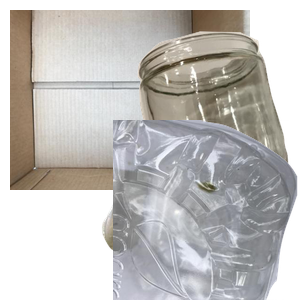cardboard: (10, 10, 250, 190)
glass: (135, 29, 300, 209)
plastic: (113, 120, 300, 300)
trash: (99, 155, 268, 300)
